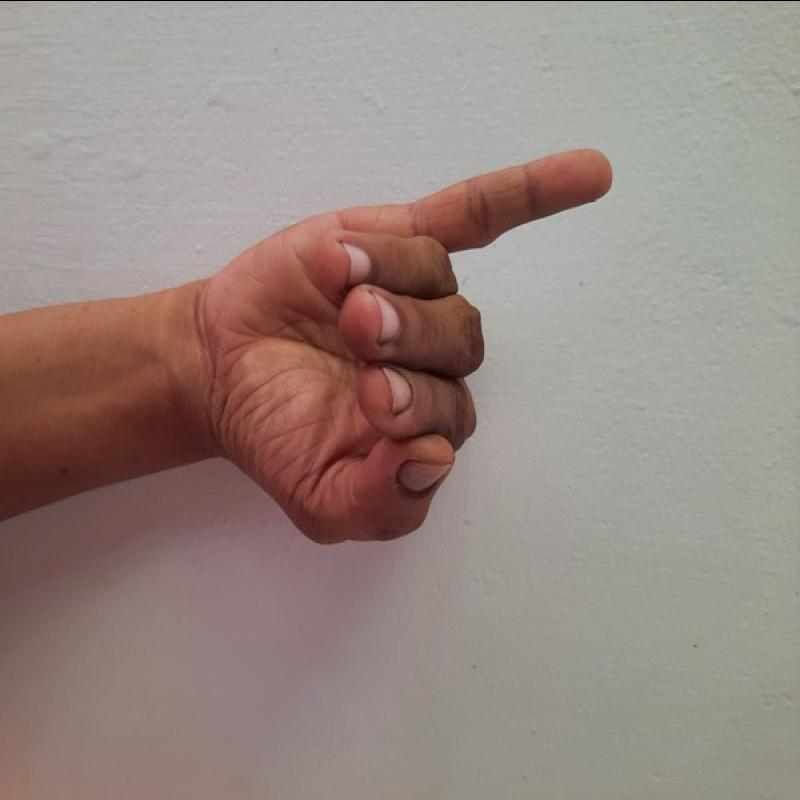Kartharee Mukham: (198, 122, 620, 558)
